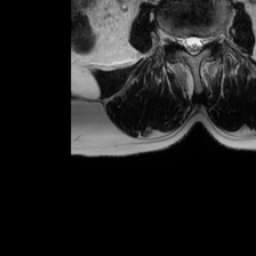CCS_normal: (189, 27, 197, 63)
LFS_normal: (205, 25, 215, 49)
LLS_normal: (197, 27, 205, 57)
RFS_normal: (172, 24, 181, 49)
RLS_normal: (181, 27, 189, 55)
